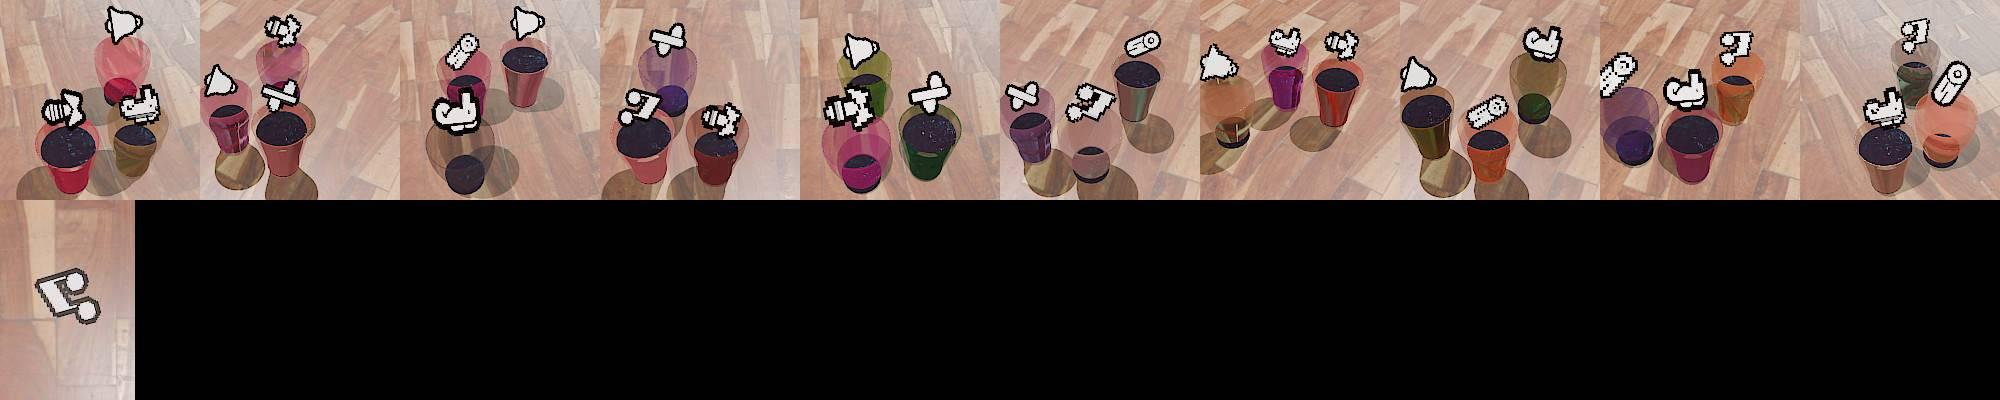icon: (34, 264, 107, 324), (822, 82, 875, 129), (431, 87, 482, 133), (1065, 81, 1119, 123), (907, 69, 953, 115), (1662, 68, 1710, 112), (1598, 50, 1639, 98), (1934, 60, 1975, 107), (1863, 85, 1907, 127), (118, 84, 162, 125), (40, 89, 85, 129), (620, 87, 664, 125), (1522, 24, 1564, 62), (1200, 43, 1239, 82), (105, 5, 143, 44), (1467, 95, 1510, 128), (444, 33, 481, 71), (263, 13, 302, 49), (649, 22, 687, 58), (1717, 29, 1756, 64), (843, 33, 880, 69), (701, 103, 740, 137), (261, 79, 300, 112), (510, 5, 545, 41), (1400, 55, 1435, 91), (1322, 28, 1360, 61), (202, 64, 237, 98), (1900, 18, 1932, 55), (1268, 26, 1303, 58), (1005, 80, 1040, 112), (1124, 30, 1161, 60)
